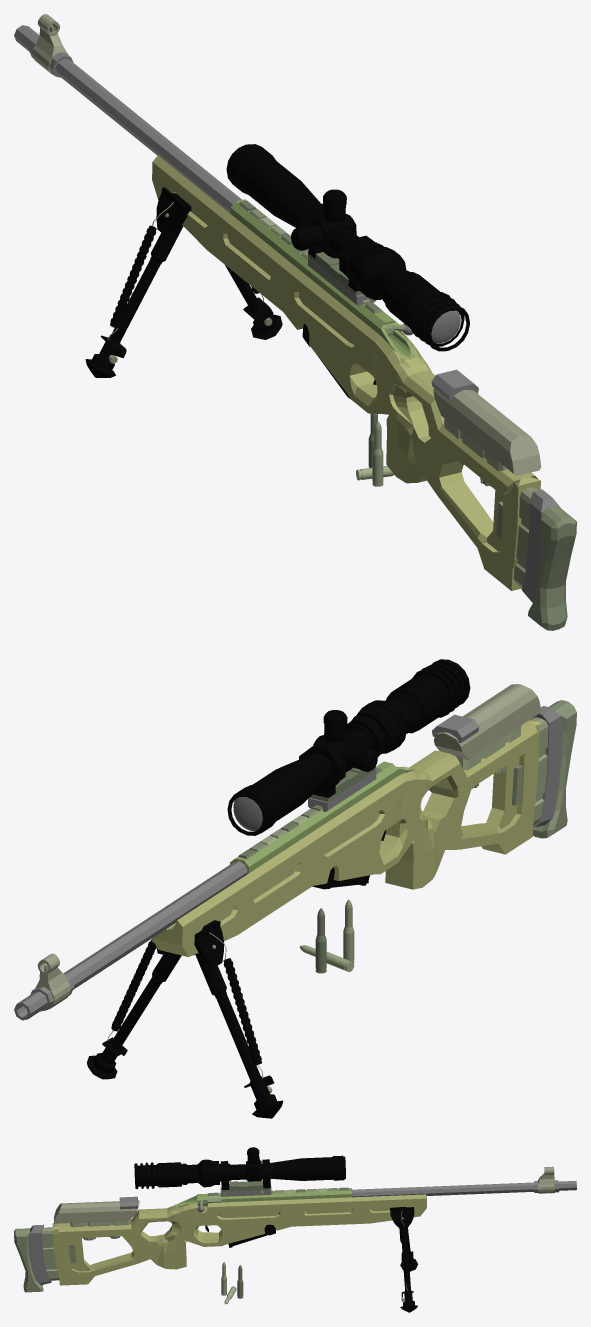
Rendered from SV98_colored.glb.
3 views of the same model, one above another, from view 1: azimuth 30°, elevation 25°; view 2: azimuth 150°, elevation 25°; view 3: azimuth 270°, elevation 25° (orthographic). The views are drawn at different scales.
Parts seen in each view (by area): view 1: model; view 2: model; view 3: model.
Part boxes in pixels (<box>): model: <box>14,14,576,630</box>; model: <box>14,659,576,1118</box>; model: <box>14,1147,576,1312</box>.
Bounding box in the file's own units: 0.1585 × 0.2163 × 0.7769.
